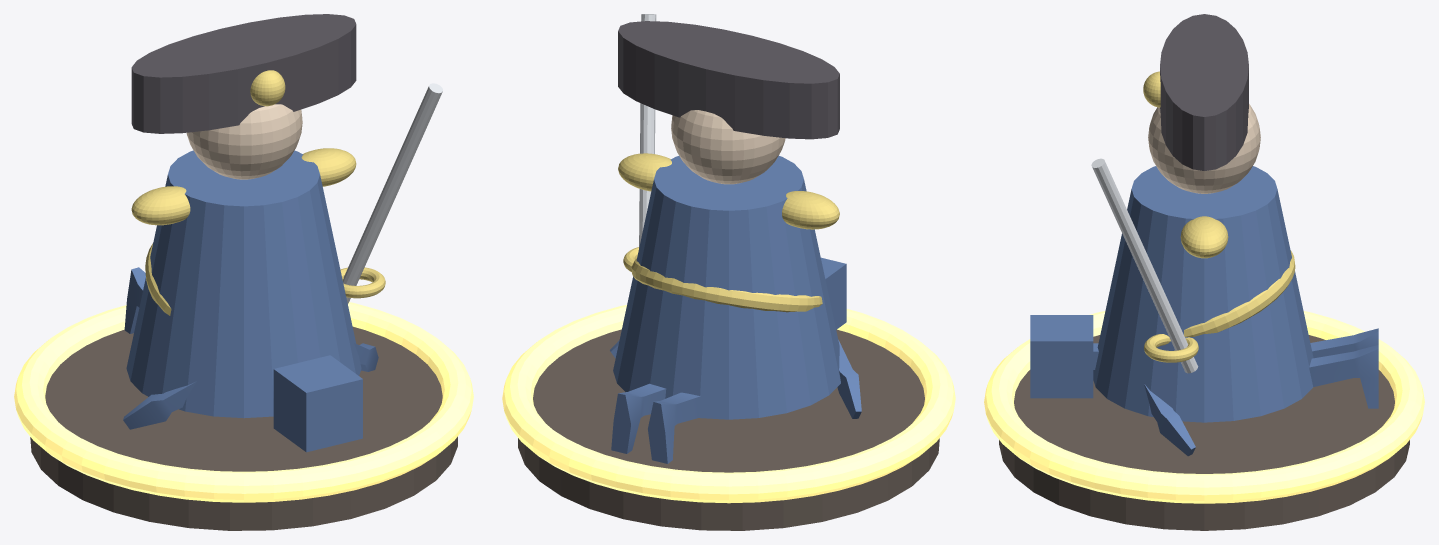
Rendered from unit_villefort.glb.
3 views of the same model, side by side, from view 1: azimuth 30°, elevation 25°; view 2: azimuth 150°, elevation 25°; view 3: azimuth 270°, elevation 25° (orthographic). The views are drawn at different scales.
Parts seen in each view (by area): view 1: Cone, Cylinder, Torus, Cylinder.001, Proxy, Sphere.002, Cylinder.002, Sphere, Sphere.001, Sphere.003, Torus.002, Torus.001; view 2: Cone, Cylinder, Torus, Cylinder.001, Proxy, Sphere.002, Torus.001, Sphere, Sphere.001, Cylinder.002; view 3: Cone, Cylinder, Torus, Cylinder.001, Proxy, Sphere.002, Cylinder.002, Torus.001, Sphere.001, Torus.002, Sphere.003.
Part boxes in pixels (<box>): Cone: <box>126,150,361,418</box>; Cylinder: <box>30,326,457,530</box>; Torus: <box>14,302,473,502</box>; Cylinder.001: <box>131,14,356,133</box>; Proxy: <box>123,267,378,452</box>; Sphere.002: <box>186,104,302,179</box>; Cylinder.002: <box>343,83,442,303</box>; Sphere: <box>131,186,190,225</box>; Sphere.001: <box>301,148,356,186</box>; Sphere.003: <box>250,70,285,106</box>; Torus.002: <box>340,267,385,298</box>; Torus.001: <box>145,243,171,315</box>; Cone: <box>613,156,840,419</box>; Cylinder: <box>518,329,939,530</box>; Torus: <box>502,305,955,503</box>; Cylinder.001: <box>618,21,839,139</box>; Proxy: <box>610,257,861,463</box>; Sphere.002: <box>671,110,785,184</box>; Torus.001: <box>631,258,822,312</box>; Sphere: <box>782,191,839,229</box>; Sphere.001: <box>618,153,671,191</box>; Cylinder.002: <box>639,14,656,247</box>; Cone: <box>1093,166,1313,422</box>; Cylinder: <box>999,335,1409,530</box>; Torus: <box>984,311,1424,503</box>; Cylinder.001: <box>1160,14,1248,170</box>; Proxy: <box>1030,315,1378,456</box>; Sphere.002: <box>1148,104,1260,193</box>; Cylinder.002: <box>1091,158,1198,373</box>; Torus.001: <box>1184,250,1295,336</box>; Sphere.001: <box>1180,216,1228,258</box>; Torus.002: <box>1144,334,1198,362</box>; Sphere.003: <box>1143,71,1160,107</box>.
Bounding box in the file's own units: 1.33 × 1.26 × 1.33.
